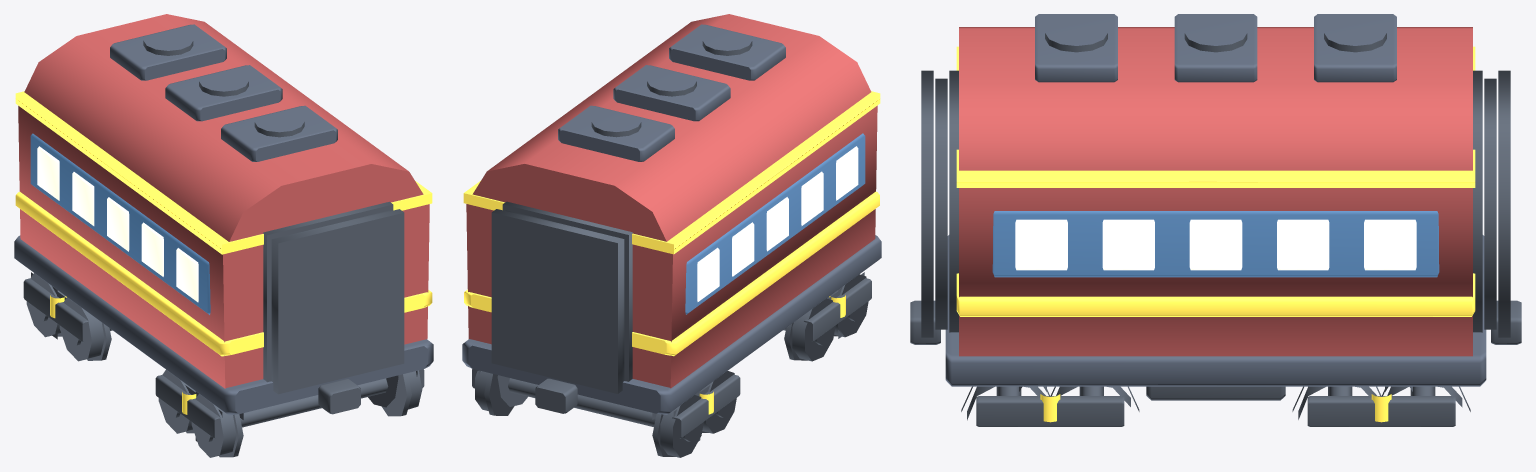
Rendered from carriage_passenger.glb.
The picture shows the model from 3 angles, left to right: view 1: azimuth 30°, elevation 25°; view 2: azimuth 150°, elevation 25°; view 3: azimuth 270°, elevation 25°; orthographic projection. The views are drawn at different scales.
Visible parts, largest first — view 1: CarriagePassengerClassic, WheelSet_0; view 2: CarriagePassengerClassic, WheelSet_1; view 3: CarriagePassengerClassic.
Part boxes in pixels (x1=…): CarriagePassengerClassic: x1=14, y1=14, x2=433, y2=457; WheelSet_0: x1=185, y1=371, x2=417, y2=441; CarriagePassengerClassic: x1=462, y1=14, x2=881, y2=457; WheelSet_1: x1=478, y1=370, x2=709, y2=441; CarriagePassengerClassic: x1=910, y1=14, x2=1521, y2=426.
Bounding box in the file's own units: 0.356 × 0.4687 × 0.701.
